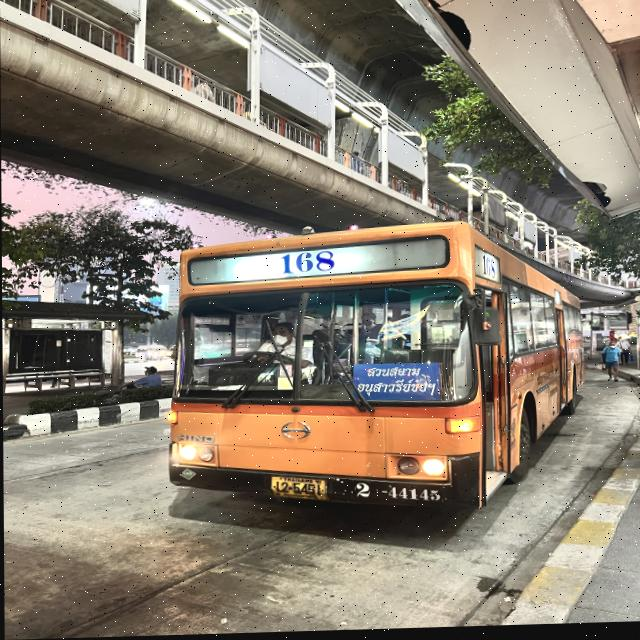BMTA-bus: (166, 222, 590, 521)
Bus-Line-Number: (268, 244, 347, 282)
Destination-Sign-Normal: (352, 362, 443, 406)
